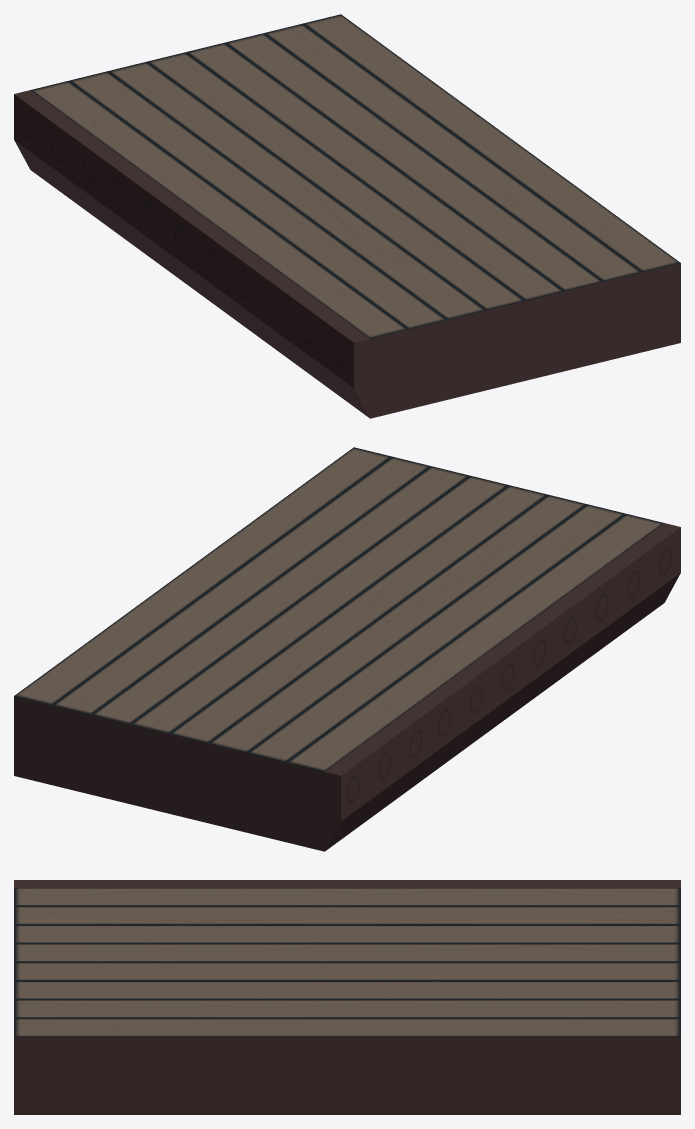
The model's file is SW_ENV_EL_Station_Mezzanine_0A.fbx.
3 renders of one model, top to bottom at view 1: azimuth 30°, elevation 25°; view 2: azimuth 150°, elevation 25°; view 3: azimuth 270°, elevation 25°, orthographic.
Parts seen in each view (by area): view 1: SW_ENV_EL_Station_Mezzanine_0A; view 2: SW_ENV_EL_Station_Mezzanine_0A; view 3: SW_ENV_EL_Station_Mezzanine_0A.
Boxes of the visible parts, x1,y1,x2,y2 form: SW_ENV_EL_Station_Mezzanine_0A: (14, 14, 680, 418); SW_ENV_EL_Station_Mezzanine_0A: (14, 447, 680, 851); SW_ENV_EL_Station_Mezzanine_0A: (14, 880, 680, 1114).
Bounding box in the file's own units: 300 × 70 × 540.
